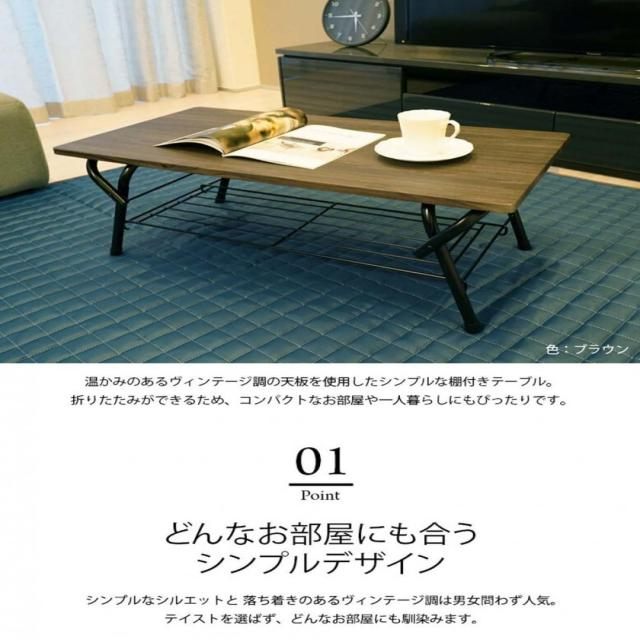vintage desk: (49, 103, 565, 336)
